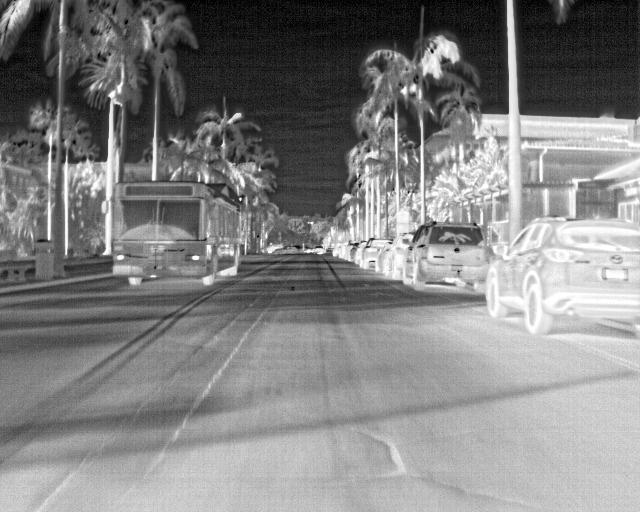car: (484, 217, 637, 336), (404, 224, 484, 289), (380, 232, 415, 279), (360, 236, 389, 268), (349, 240, 367, 263), (336, 241, 352, 260), (313, 242, 326, 257), (291, 241, 304, 254)
